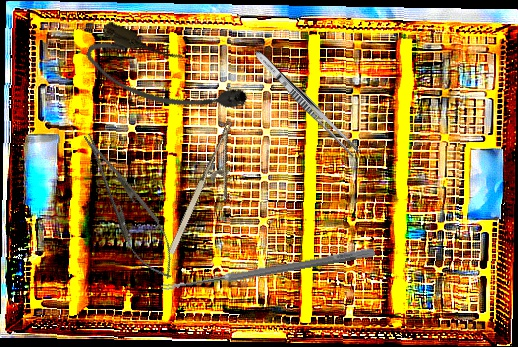Cannula: (79, 17, 254, 137)
Dressing Forceps: (250, 46, 363, 160)
Needle Holder: (69, 124, 188, 288), (163, 118, 260, 266)
Surgical Spoon: (160, 246, 376, 294)
